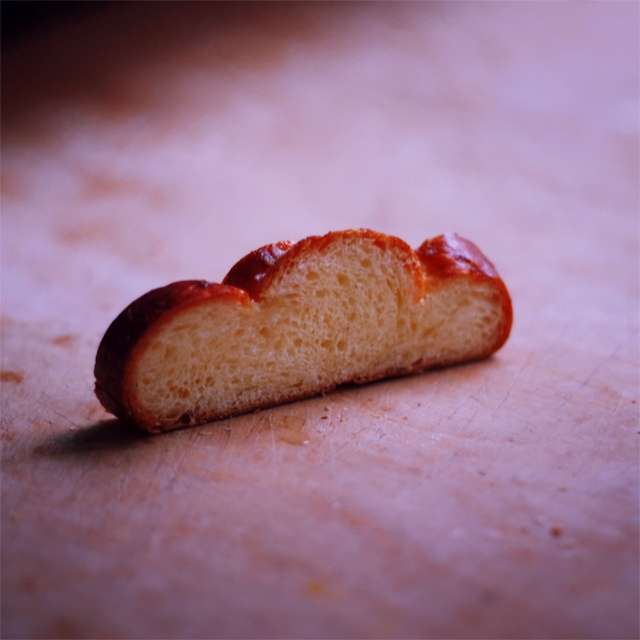slice of bread: (86, 212, 535, 446)
